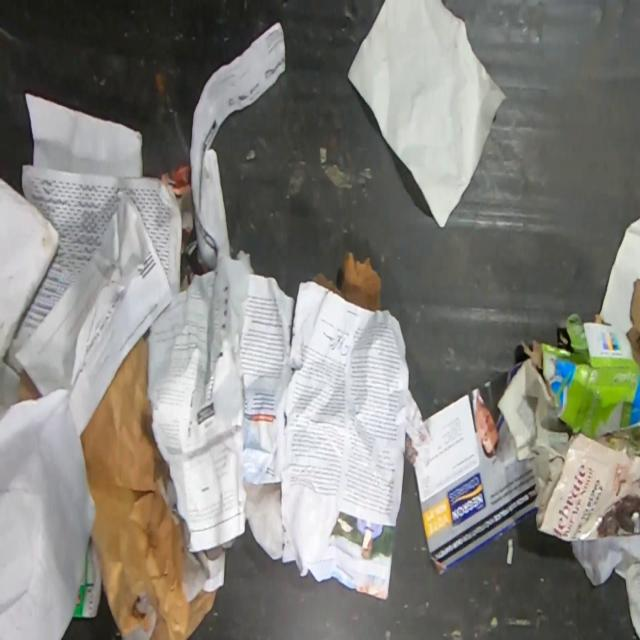cardboard: (405, 362, 540, 577), (518, 311, 640, 438), (312, 252, 382, 311)
